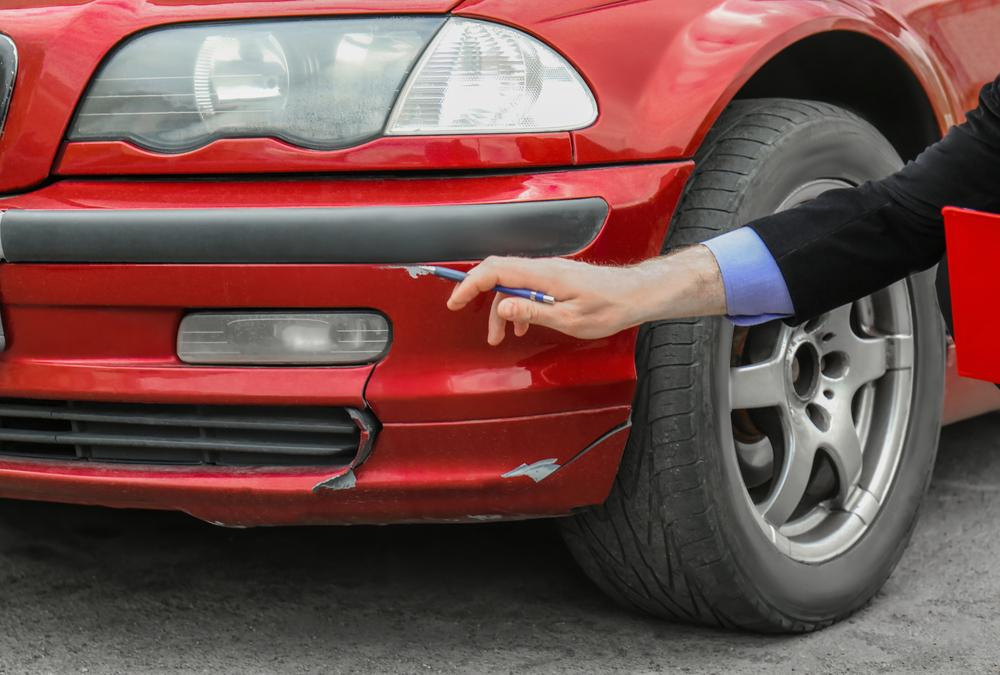crack: (312, 363, 386, 490), (542, 409, 632, 480)
